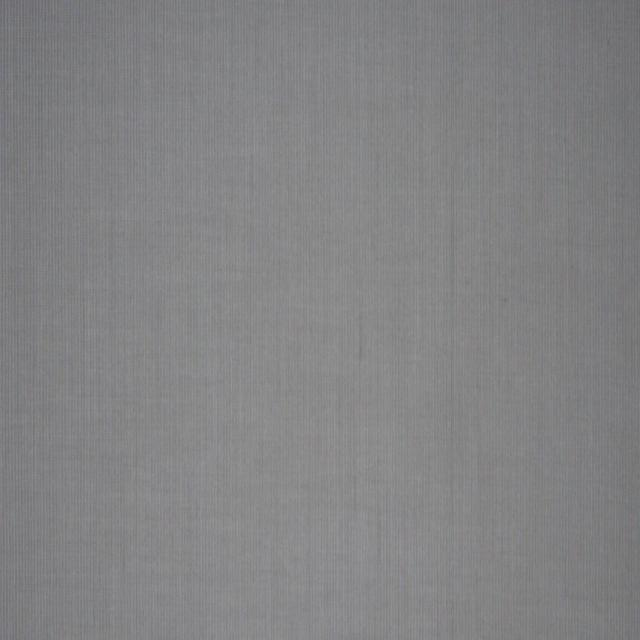dirty: (359, 312, 363, 362)
